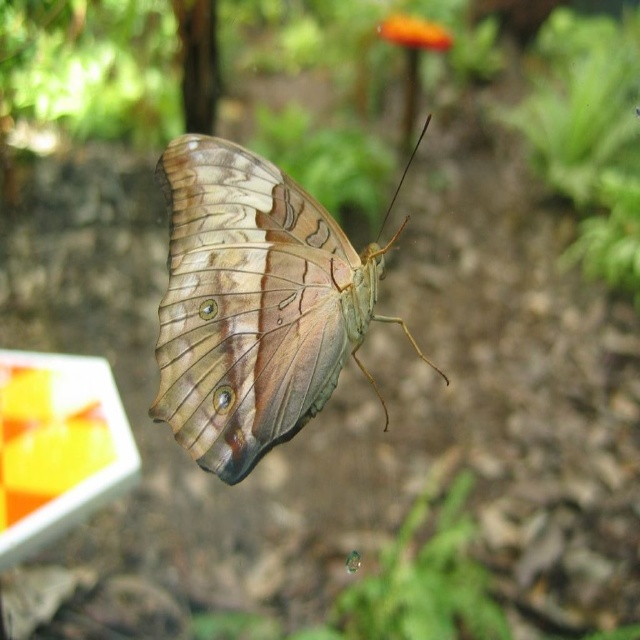Butterfly: (138, 99, 453, 489)
